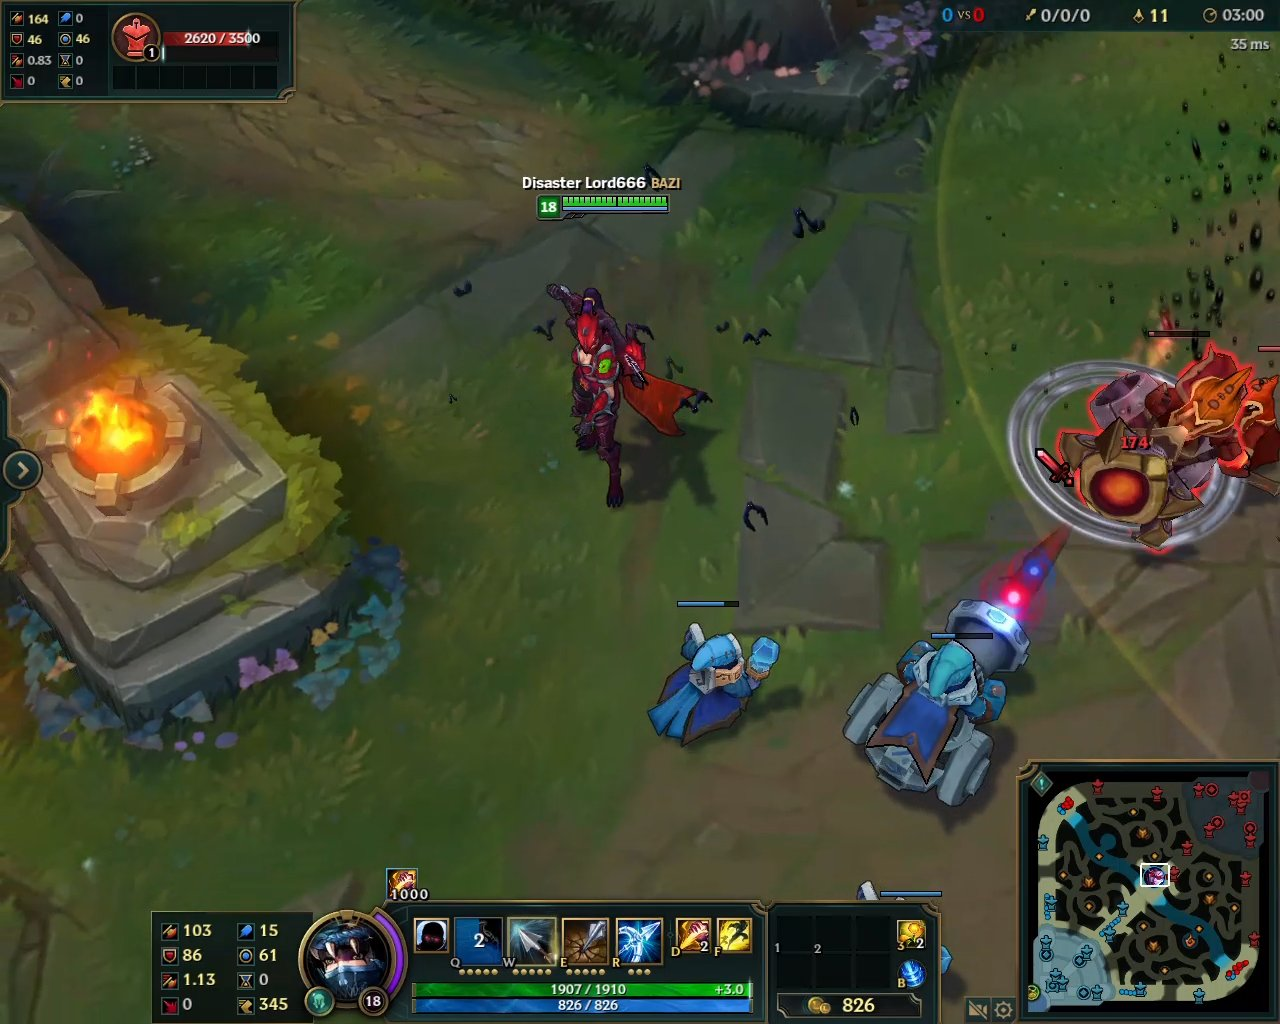Vayne: (542, 281, 706, 509)
